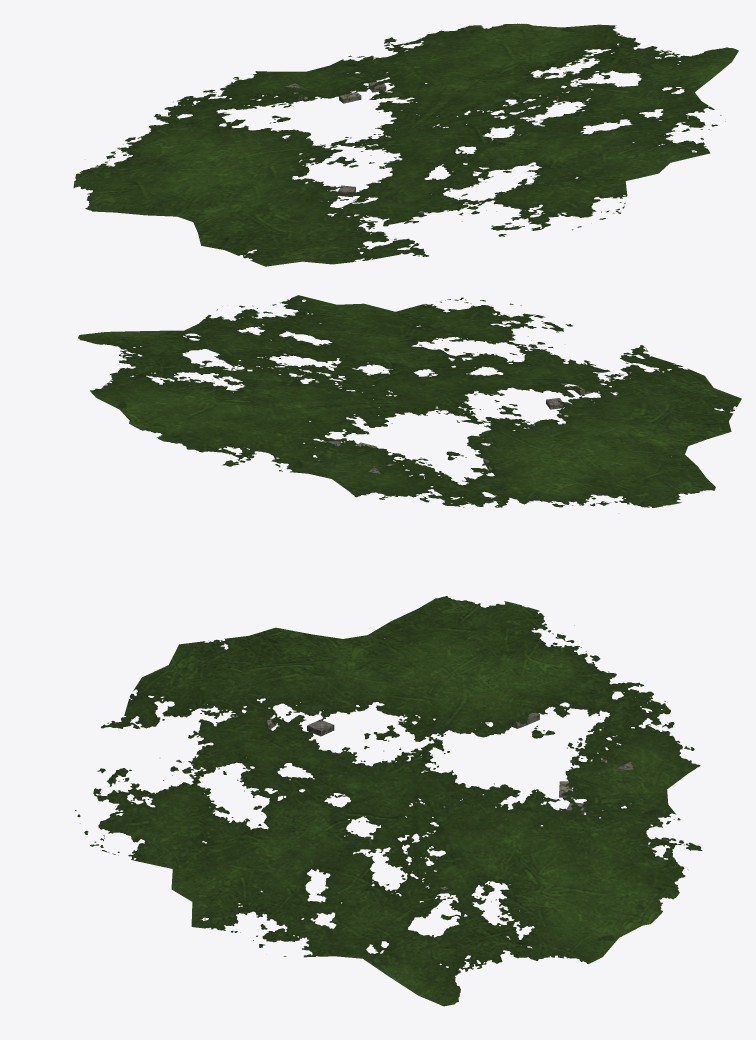
File: v3_moss_veil.glb
3 views of the same model, one above another, from view 1: azimuth 30°, elevation 25°; view 2: azimuth 150°, elevation 25°; view 3: azimuth 270°, elevation 25° (orthographic). The views are drawn at different scales.
Parts seen in each view (by area): view 1: v3_feathered_moss_surface, v3_wet_stone_surface; view 2: v3_feathered_moss_surface, v3_wet_stone_surface; view 3: v3_feathered_moss_surface, v3_wet_stone_surface.
Boxes of the visible parts, x1,y1,x2,y2 form: v3_feathered_moss_surface: (73,23,738,266); v3_wet_stone_surface: (285,82,561,214); v3_feathered_moss_surface: (78,295,741,507); v3_wet_stone_surface: (322,383,592,473); v3_feathered_moss_surface: (75,596,702,1006); v3_wet_stone_surface: (267,712,633,893).
Size of the model in its own units: 3.54 by 0.0404 by 2.4.
Materials: 2 (2 with a texture image).
